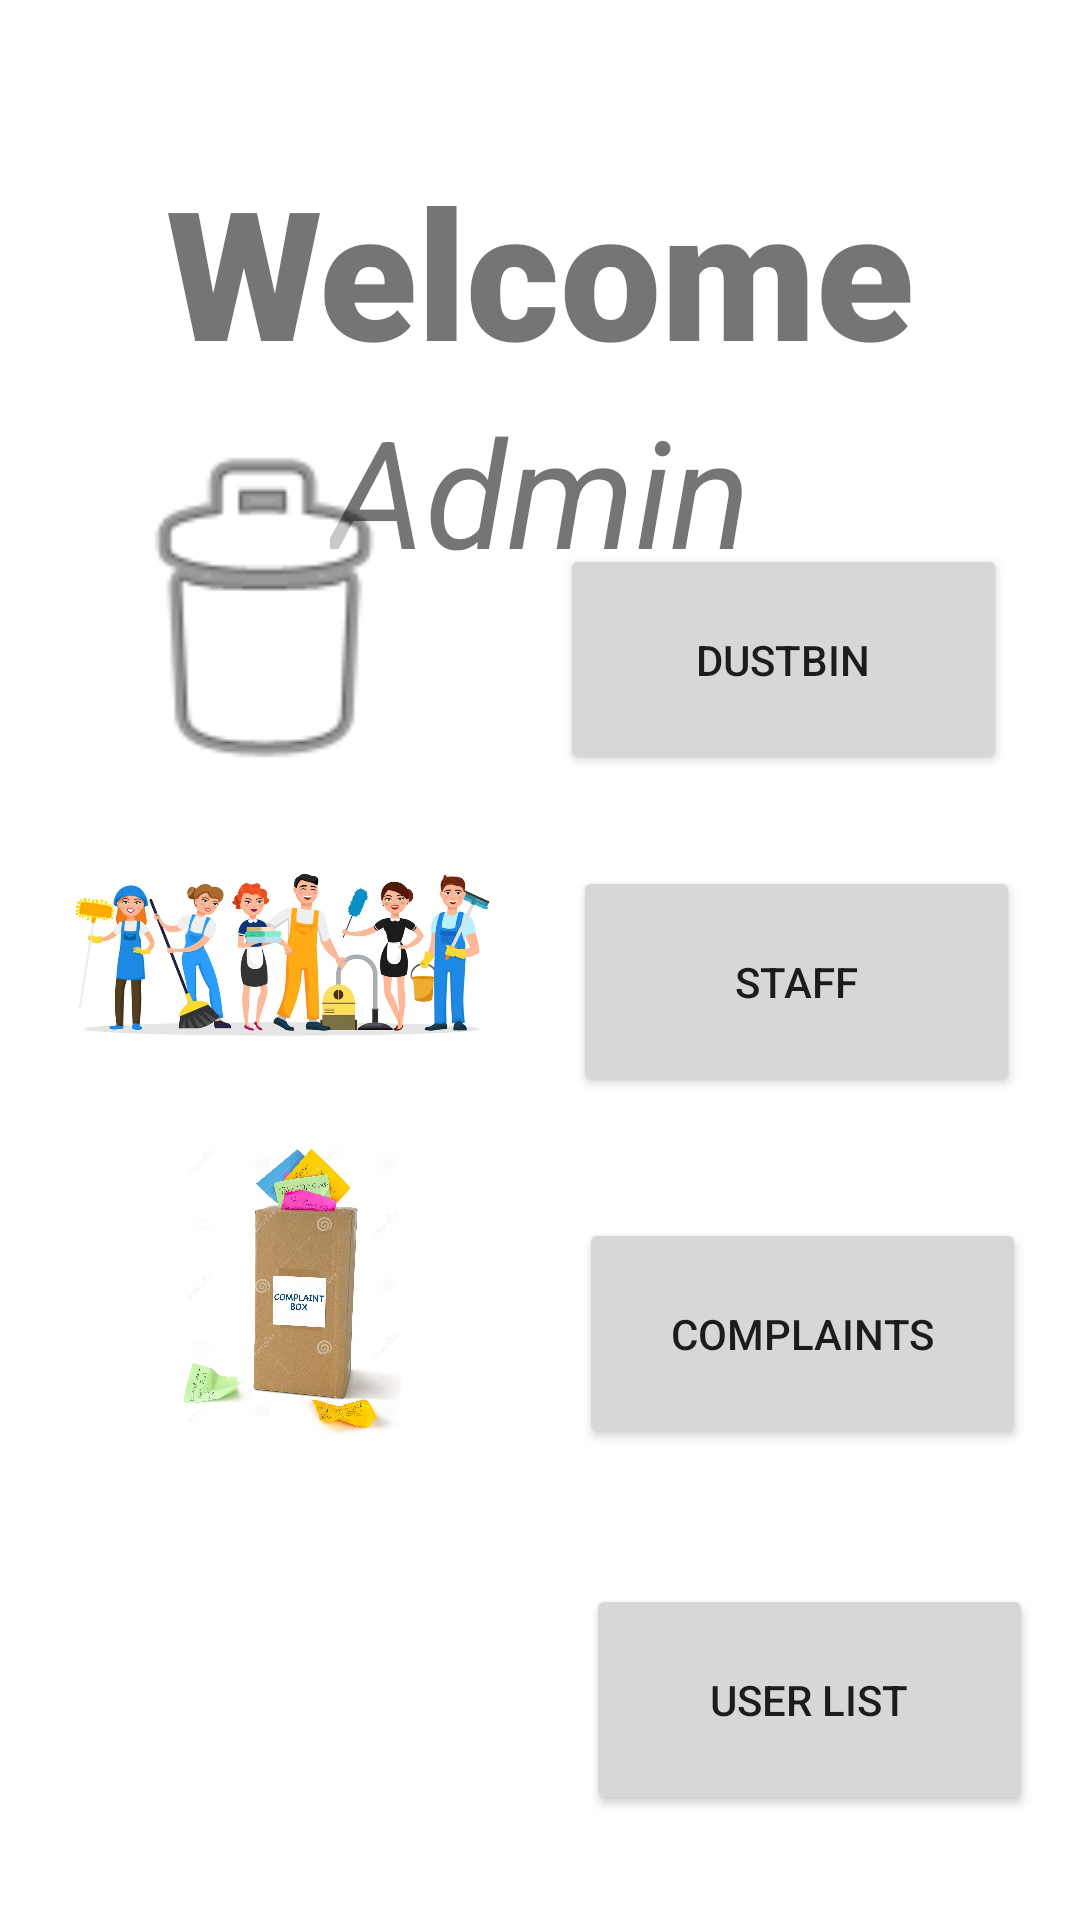

Icons on this 1080px x 1920px Android screen, each with its box as (x1, y1, x2, y2):
delete: (156, 442, 415, 757)
